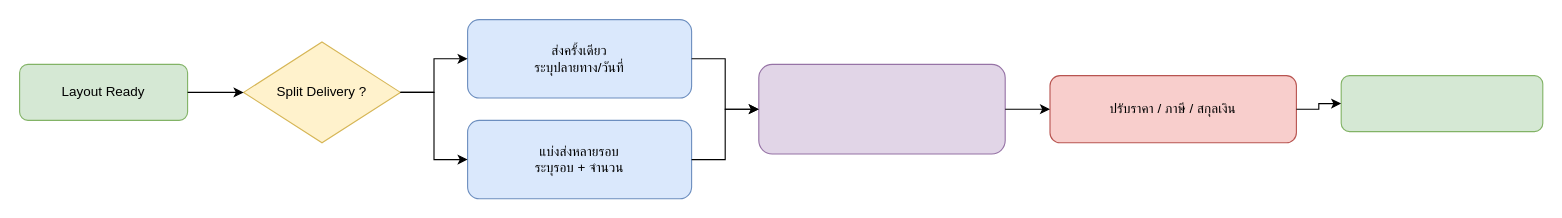
The diagram is 1562 pixels wide and 218 high, and some of its shapes have lost their labels. Here are the shapes that lost their labels. From the top down, the centre of each, then its label:
At (881,108): "Packing Options Paperband / Kraftwrap Carton / Pallet".
At (1441,103): "พร้อมคำนวณราคา".
